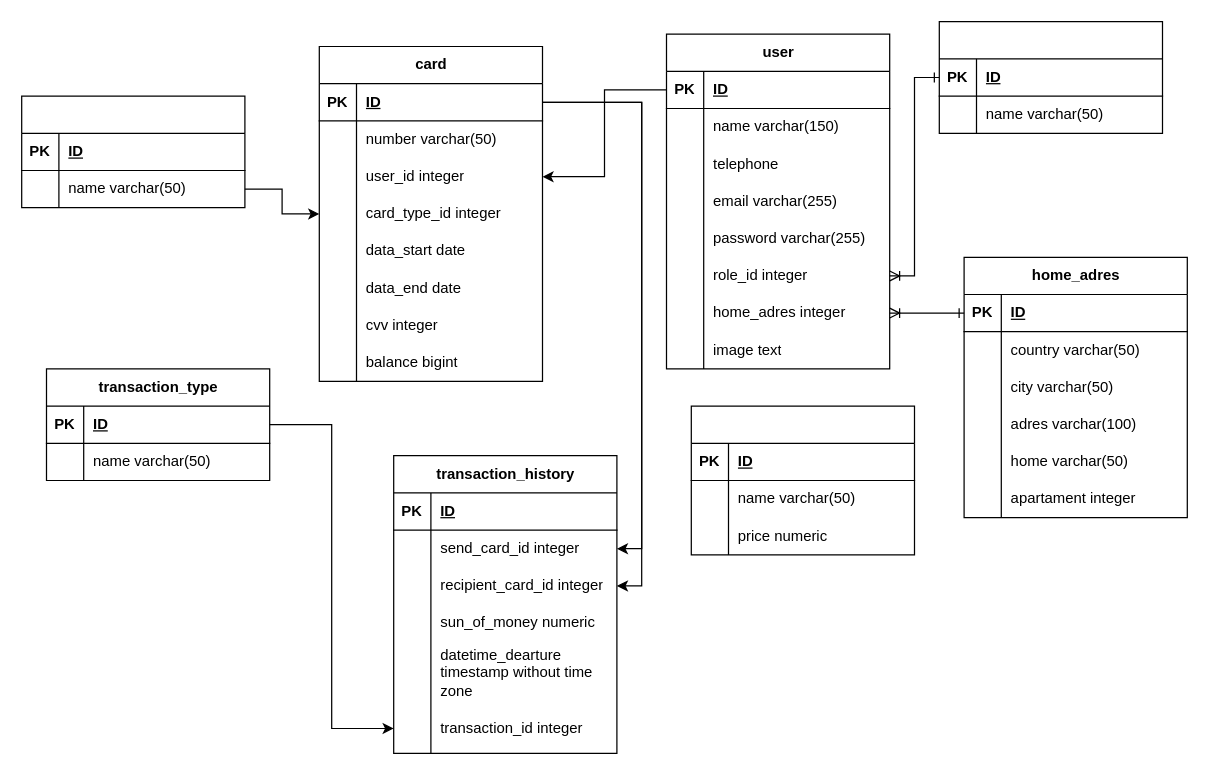
Some shapes in this 1209 by 775 pixel diagram are drawn without their labels. The shapes that lost their labels are listed below. From the top down, each one's box as (x1, y1, x2, y2) in pixels, then its label:
(938, 20, 1162, 133): user_role
(20, 95, 245, 208): card_type
(690, 405, 914, 555): exchange_rate
